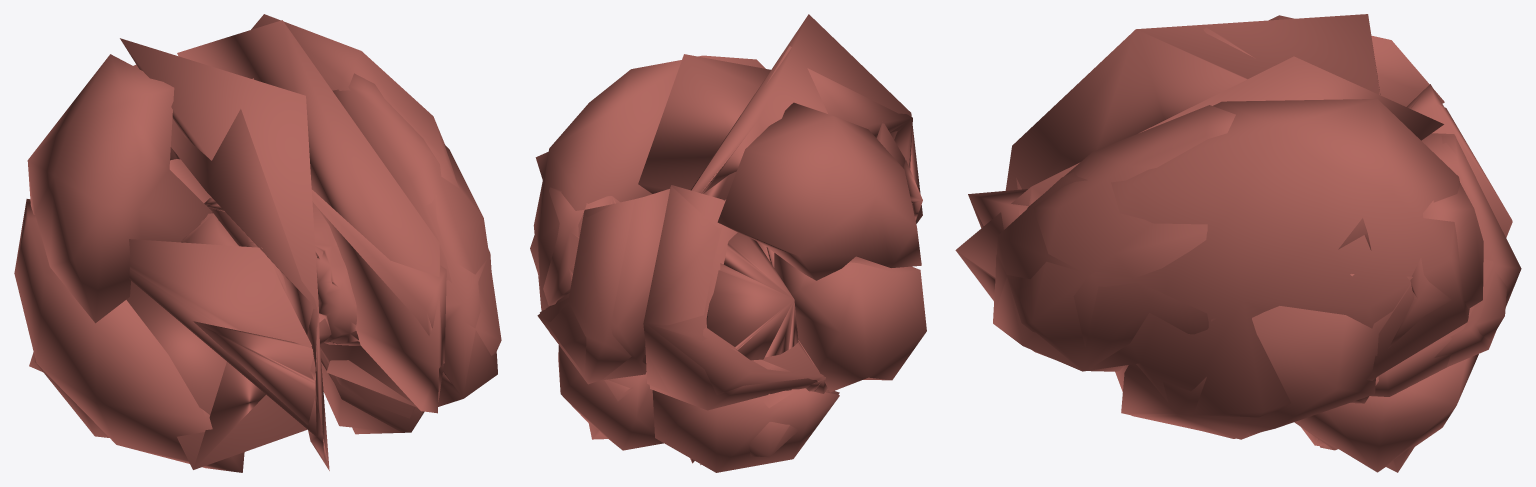
The model's file is atlas_nervous_mni152.territories.LOD4.glb.
3 renders of one model, left to right at view 1: azimuth 30°, elevation 25°; view 2: azimuth 150°, elevation 25°; view 3: azimuth 270°, elevation 25°, orthographic. The views are drawn at different scales.
Visible parts, largest first — view 1: ATLAS.NERVOUS.MNI152.TERRITORIES.MCA_TERRITORY_PARIETAL.R, ATLAS.NERVOUS.MNI152.TERRITORIES.ACA_TERRITORY.L, ATLAS.NERVOUS.MNI152.TERRITORIES.MCA_MAJOR_TERRITORY.R, ATLAS.NERVOUS.MNI152.TERRITORIES.MCA_TERRITORY_TEMPORAL.R, ATLAS.NERVOUS.MNI152.TERRITORIES.ACA_TERRITORY.R, ATLAS.NERVOUS.MNI152.TERRITORIES.MCA_MAJOR_TERRITORY.L, ATLAS.NERVOUS.MNI152.TERRITORIES.MCA_TERRITORY_FRONTAL.L, ATLAS.NERVOUS.MNI152.TERRITORIES.ACA_MAJOR_TERRITORY.R, ATLAS.NERVOUS.MNI152.TERRITORIES.MCA_TERRITORY_FRONTAL.R, ATLAS.NERVOUS.MNI152.TERRITORIES.MEDIAL_LENTICULOSTRIATE_TER (×2), ATLAS.NERVOUS.MNI152.TERRITORIES.ACA_MAJOR_TERRITORY.L, ATLAS.NERVOUS.MNI152.TERRITORIES.MCA_TERRITORY_TEMPORAL.L (+3 smaller); view 2: ATLAS.NERVOUS.MNI152.TERRITORIES.MCA_TERRITORY_PARIETAL.R, ATLAS.NERVOUS.MNI152.TERRITORIES.VERTEBROBASILAR_MAJOR_TERRI (×2), ATLAS.NERVOUS.MNI152.TERRITORIES.MCA_TERRITORY_TEMPORAL.R, ATLAS.NERVOUS.MNI152.TERRITORIES.MCA_MAJOR_TERRITORY.L, ATLAS.NERVOUS.MNI152.TERRITORIES.PCA_MAJOR_TERRITORY.R, ATLAS.NERVOUS.MNI152.TERRITORIES.ACA_TERRITORY.L, ATLAS.NERVOUS.MNI152.TERRITORIES.ACA_TERRITORY.R, ATLAS.NERVOUS.MNI152.TERRITORIES.PCA_TERRITORY_OCCIPITAL.L, ATLAS.NERVOUS.MNI152.TERRITORIES.MCA_TERRITORY_OCCIPITAL.R, ATLAS.NERVOUS.MNI152.TERRITORIES.PCA_MAJOR_TERRITORY.L, ATLAS.NERVOUS.MNI152.TERRITORIES.PCA_TERRITORY_OCCIPITAL.R, ATLAS.NERVOUS.MNI152.TERRITORIES.ACA_MAJOR_TERRITORY.R (+4 smaller); view 3: ATLAS.NERVOUS.MNI152.TERRITORIES.MCA_MAJOR_TERRITORY.L, ATLAS.NERVOUS.MNI152.TERRITORIES.MCA_TERRITORY_FRONTAL.L, ATLAS.NERVOUS.MNI152.TERRITORIES.ACA_TERRITORY.R, ATLAS.NERVOUS.MNI152.TERRITORIES.MCA_TERRITORY_TEMPORAL.L, ATLAS.NERVOUS.MNI152.TERRITORIES.VERTEBROBASILAR_MAJOR_TERRI, ATLAS.NERVOUS.MNI152.TERRITORIES.ACA_TERRITORY.L, ATLAS.NERVOUS.MNI152.TERRITORIES.MCA_TERRITORY_OCCIPITAL.L, ATLAS.NERVOUS.MNI152.TERRITORIES.PCA_TERRITORY_OCCIPITAL.L, ATLAS.NERVOUS.MNI152.TERRITORIES.PCA_MAJOR_TERRITORY.L, ATLAS.NERVOUS.MNI152.TERRITORIES.MCA_TERRITORY_PARIETAL.R, ATLAS.NERVOUS.MNI152.TERRITORIES.PCA_TERRITORY_OCCIPITAL.R, ATLAS.NERVOUS.MNI152.TERRITORIES.ACA_MAJOR_TERRITORY.L.
Boxes of the visible parts, x1=… form: ATLAS.NERVOUS.MNI152.TERRITORIES.MCA_TERRITORY_PARIETAL.R: x1=27, y1=54, x2=212, y2=323; ATLAS.NERVOUS.MNI152.TERRITORIES.ACA_TERRITORY.L: x1=177, y1=20, x2=443, y2=413; ATLAS.NERVOUS.MNI152.TERRITORIES.MCA_MAJOR_TERRITORY.R: x1=126, y1=239, x2=316, y2=469; ATLAS.NERVOUS.MNI152.TERRITORIES.MCA_TERRITORY_TEMPORAL.R: x1=14, y1=199, x2=244, y2=472; ATLAS.NERVOUS.MNI152.TERRITORIES.ACA_TERRITORY.R: x1=120, y1=38, x2=324, y2=458; ATLAS.NERVOUS.MNI152.TERRITORIES.MCA_MAJOR_TERRITORY.L: x1=251, y1=14, x2=497, y2=432; ATLAS.NERVOUS.MNI152.TERRITORIES.MCA_TERRITORY_FRONTAL.L: x1=326, y1=73, x2=501, y2=407; ATLAS.NERVOUS.MNI152.TERRITORIES.ACA_MAJOR_TERRITORY.R: x1=171, y1=78, x2=329, y2=470; ATLAS.NERVOUS.MNI152.TERRITORIES.MCA_TERRITORY_FRONTAL.R: x1=193, y1=321, x2=316, y2=432; ATLAS.NERVOUS.MNI152.TERRITORIES.MEDIAL_LENTICULOSTRIATE_TER (×2): x1=204, y1=198, x2=360, y2=345; ATLAS.NERVOUS.MNI152.TERRITORIES.ACA_MAJOR_TERRITORY.L: x1=311, y1=189, x2=446, y2=401; ATLAS.NERVOUS.MNI152.TERRITORIES.MCA_TERRITORY_TEMPORAL.L: x1=320, y1=348, x2=424, y2=434; ATLAS.NERVOUS.MNI152.TERRITORIES.MCA_TERRITORY_PARIETAL.R: x1=717, y1=102, x2=921, y2=280; ATLAS.NERVOUS.MNI152.TERRITORIES.VERTEBROBASILAR_MAJOR_TERRI (×2): x1=558, y1=345, x2=839, y2=472; ATLAS.NERVOUS.MNI152.TERRITORIES.MCA_TERRITORY_TEMPORAL.R: x1=774, y1=253, x2=926, y2=392; ATLAS.NERVOUS.MNI152.TERRITORIES.MCA_MAJOR_TERRITORY.L: x1=533, y1=60, x2=681, y2=310; ATLAS.NERVOUS.MNI152.TERRITORIES.PCA_MAJOR_TERRITORY.R: x1=644, y1=186, x2=823, y2=394; ATLAS.NERVOUS.MNI152.TERRITORIES.ACA_TERRITORY.L: x1=638, y1=54, x2=770, y2=193; ATLAS.NERVOUS.MNI152.TERRITORIES.ACA_TERRITORY.R: x1=690, y1=14, x2=922, y2=223; ATLAS.NERVOUS.MNI152.TERRITORIES.PCA_TERRITORY_OCCIPITAL.L: x1=537, y1=197, x2=646, y2=384; ATLAS.NERVOUS.MNI152.TERRITORIES.MCA_TERRITORY_OCCIPITAL.R: x1=706, y1=232, x2=798, y2=360; ATLAS.NERVOUS.MNI152.TERRITORIES.PCA_MAJOR_TERRITORY.L: x1=540, y1=189, x2=669, y2=380; ATLAS.NERVOUS.MNI152.TERRITORIES.PCA_TERRITORY_OCCIPITAL.R: x1=643, y1=185, x2=817, y2=410; ATLAS.NERVOUS.MNI152.TERRITORIES.ACA_MAJOR_TERRITORY.R: x1=703, y1=46, x2=912, y2=201; ATLAS.NERVOUS.MNI152.TERRITORIES.MCA_MAJOR_TERRITORY.L: x1=993, y1=99, x2=1469, y2=439; ATLAS.NERVOUS.MNI152.TERRITORIES.MCA_TERRITORY_FRONTAL.L: x1=994, y1=105, x2=1235, y2=371; ATLAS.NERVOUS.MNI152.TERRITORIES.ACA_TERRITORY.R: x1=1005, y1=14, x2=1380, y2=190; ATLAS.NERVOUS.MNI152.TERRITORIES.MCA_TERRITORY_TEMPORAL.L: x1=1121, y1=274, x2=1412, y2=438; ATLAS.NERVOUS.MNI152.TERRITORIES.VERTEBROBASILAR_MAJOR_TERRI: x1=1294, y1=354, x2=1478, y2=472; ATLAS.NERVOUS.MNI152.TERRITORIES.ACA_TERRITORY.L: x1=955, y1=56, x2=1443, y2=300; ATLAS.NERVOUS.MNI152.TERRITORIES.MCA_TERRITORY_OCCIPITAL.L: x1=1388, y1=183, x2=1483, y2=348; ATLAS.NERVOUS.MNI152.TERRITORIES.PCA_TERRITORY_OCCIPITAL.L: x1=1434, y1=135, x2=1521, y2=366; ATLAS.NERVOUS.MNI152.TERRITORIES.PCA_MAJOR_TERRITORY.L: x1=1370, y1=133, x2=1507, y2=396; ATLAS.NERVOUS.MNI152.TERRITORIES.MCA_TERRITORY_PARIETAL.R: x1=1269, y1=15, x2=1444, y2=106; ATLAS.NERVOUS.MNI152.TERRITORIES.PCA_TERRITORY_OCCIPITAL.R: x1=1406, y1=84, x2=1512, y2=237; ATLAS.NERVOUS.MNI152.TERRITORIES.ACA_MAJOR_TERRITORY.L: x1=968, y1=189, x2=1028, y2=229.
Bounding box in the file's own units: 0.1469 × 0.1577 × 0.1958.
